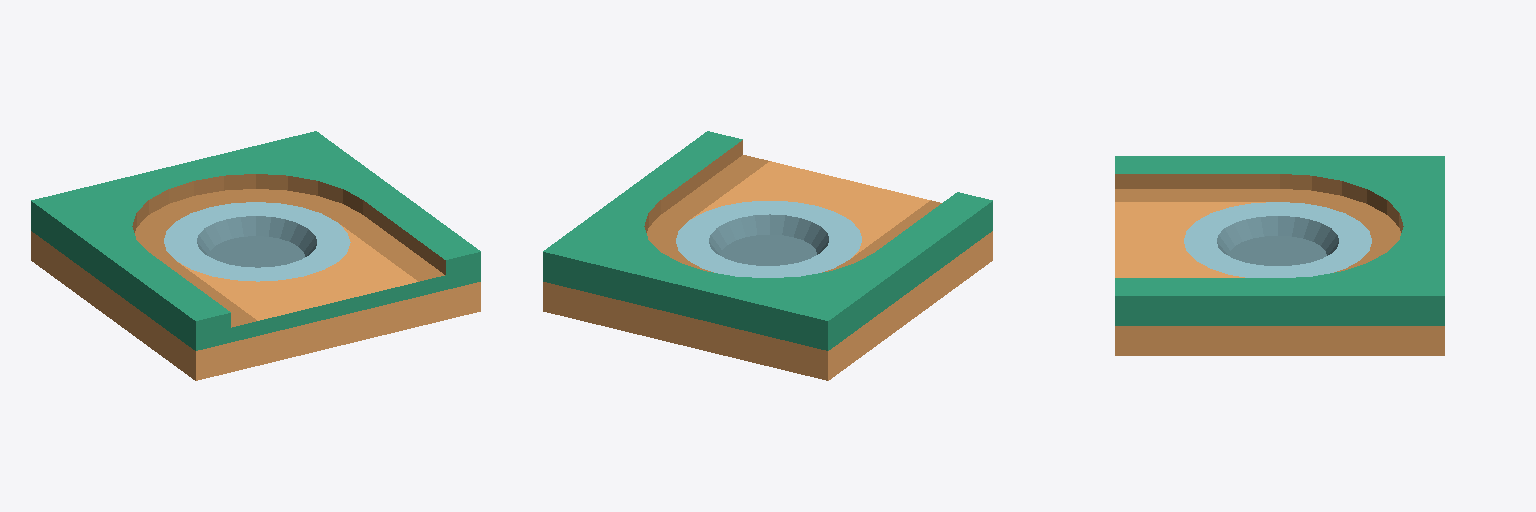
File: tile_endRoundSpawn.obj
3 views of the same model, side by side, from view 1: azimuth 30°, elevation 25°; view 2: azimuth 150°, elevation 25°; view 3: azimuth 270°, elevation 25° (orthographic).
Parts seen in each view (by area): view 1: tile_endRoundSpawn; view 2: tile_endRoundSpawn; view 3: tile_endRoundSpawn.
Part boxes in pixels (left/top/right/bottom): tile_endRoundSpawn: left=31, top=131, right=480, bottom=380; tile_endRoundSpawn: left=543, top=131, right=992, bottom=380; tile_endRoundSpawn: left=1115, top=156, right=1444, bottom=355.
Bounding box in the file's own units: 1 × 0.2 × 1.